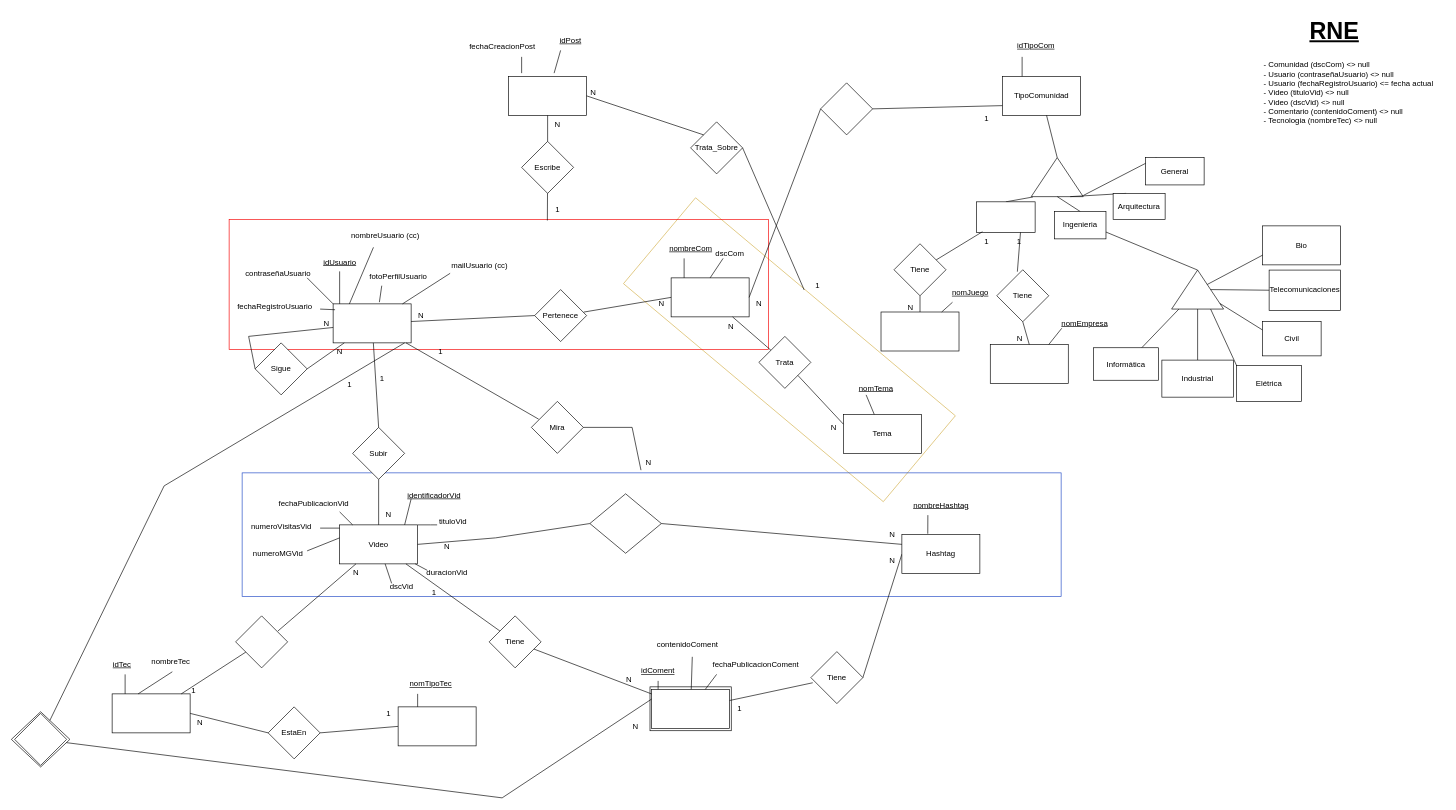
Image size: 1456x810. Some labels were removed from this diagram. Here are the shapes that lost their labels. From the top down, the centre of each, then its label:
At [547,95]: "Post".
At [846,108]: "Pertenece_a".
At [1005,216]: "Juegos".
At [709,297]: "Comunidad".
At [371,323]: "Usuario".
At [919,331]: "ListaJuegos".
At [1029,364]: "EmpresaJuegos".
At [625,523]: "Recomendado Por".
At [261,641]: "Asociado".
At [150,713]: "Tecnologia".
At [436,726]: "TipoTecnologia".
At [690,708]: "Comentario".
At [40,739]: "Hace".
